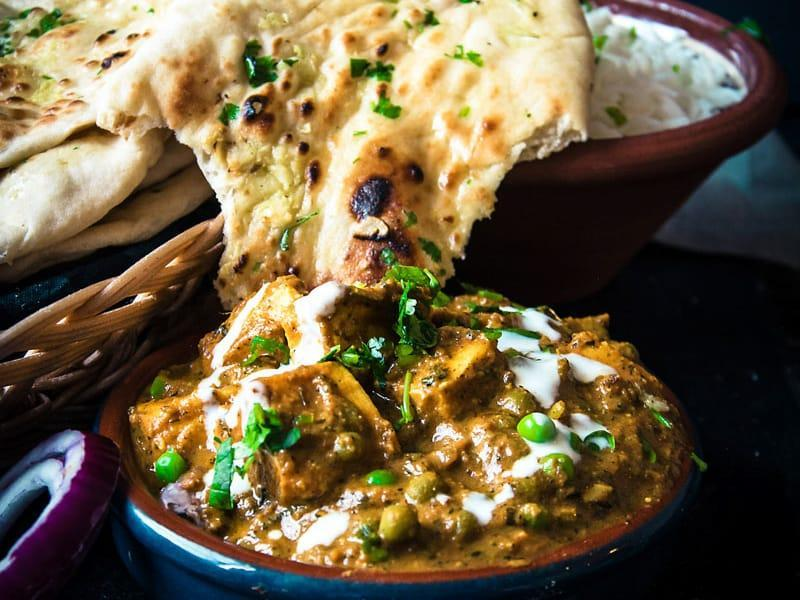paneer: (233, 331, 562, 528)
roti: (0, 9, 479, 167)
